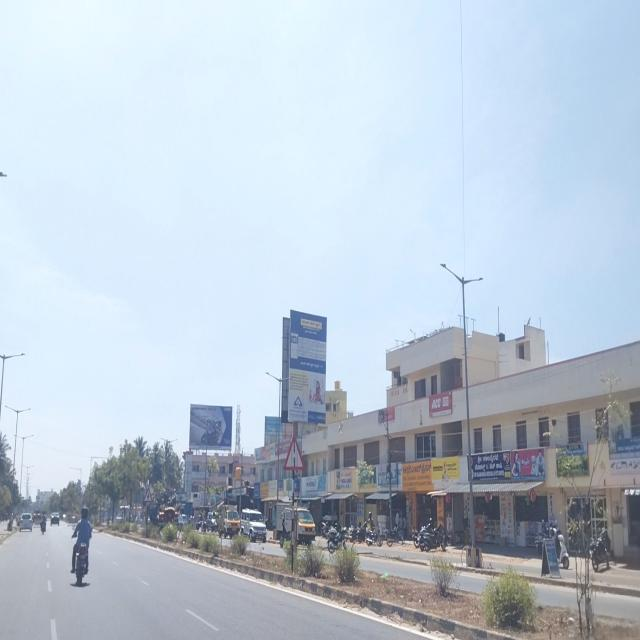bien_cam: (283, 433, 305, 471), (143, 487, 153, 503)
